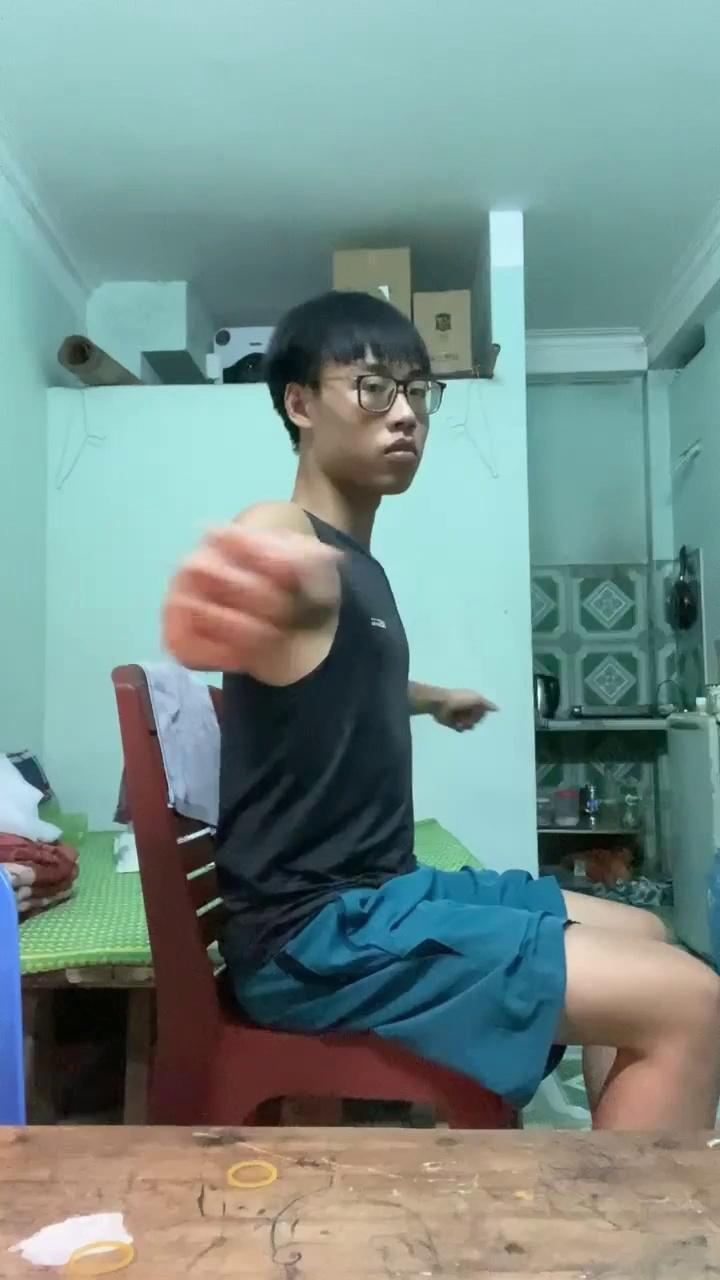GoodPosture: (163, 291, 719, 1127)
